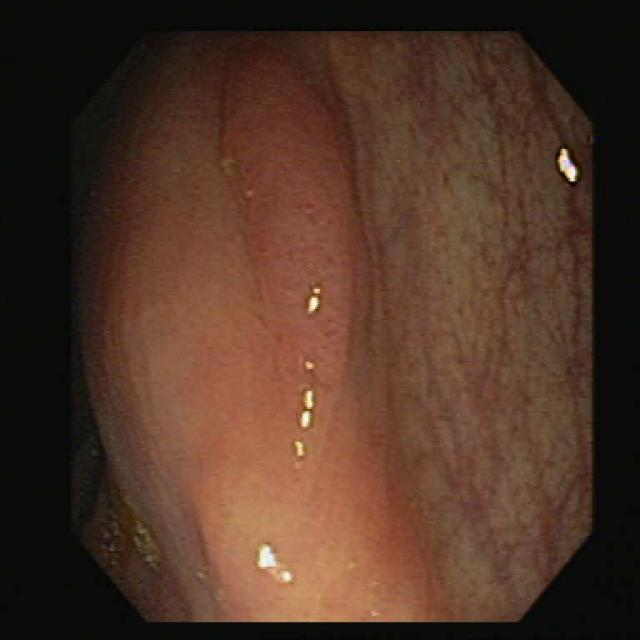tumor: (223, 53, 356, 467)
